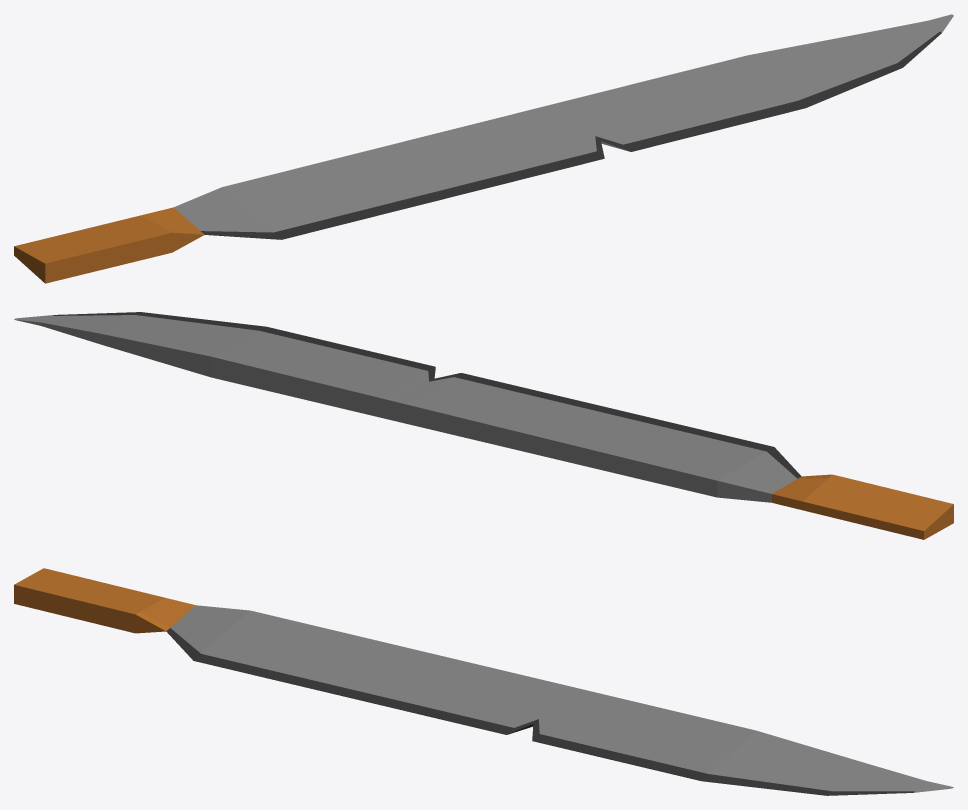
File: GoblinSword 1.fbx
The picture shows the model from 3 angles, top to bottom: view 1: azimuth 30°, elevation 25°; view 2: azimuth 150°, elevation 25°; view 3: azimuth 330°, elevation 25°; orthographic projection. The views are drawn at different scales.
Visible parts, largest first — view 1: Cube; view 2: Cube; view 3: Cube.
Boxes of the visible parts, bbox=[...] form: Cube: bbox=[14, 14, 953, 283]; Cube: bbox=[14, 312, 953, 539]; Cube: bbox=[14, 568, 953, 795].
Bounding box in the file's own units: 356 × 7.87 × 40.97.
